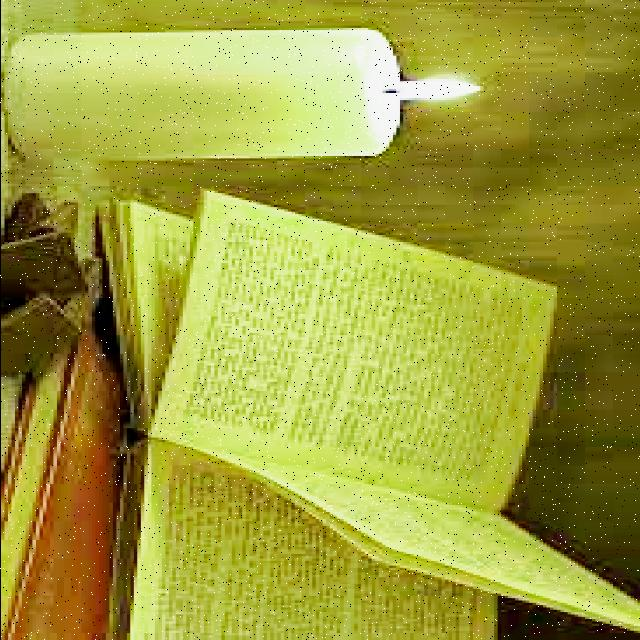api: (400, 69, 491, 115)
